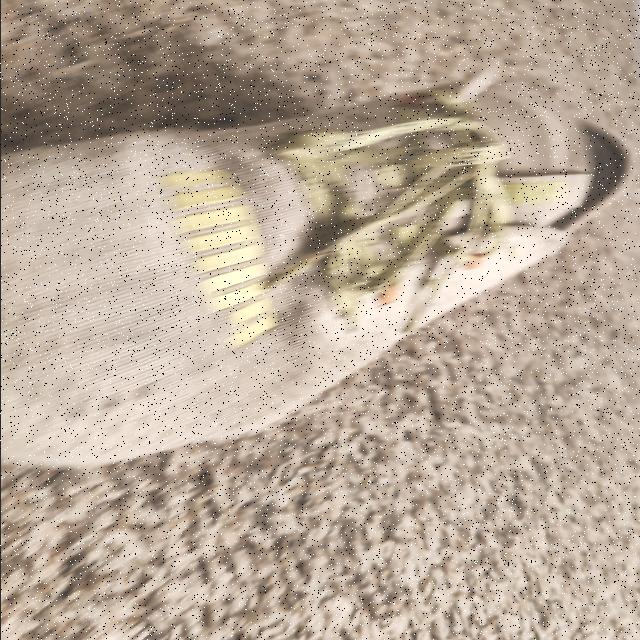white shoes: (0, 128, 607, 452)
